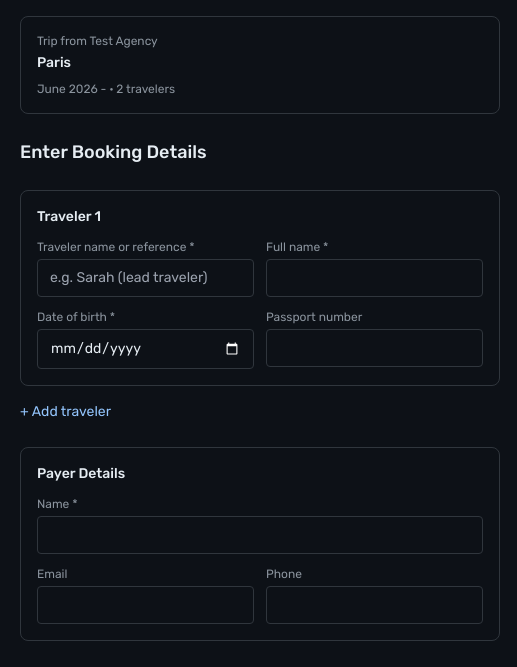
Scenario: BookingCollectionPage › can add and remove travelers
Click the button "+ Add traveler": (66, 412) [20, 402, 111, 422]
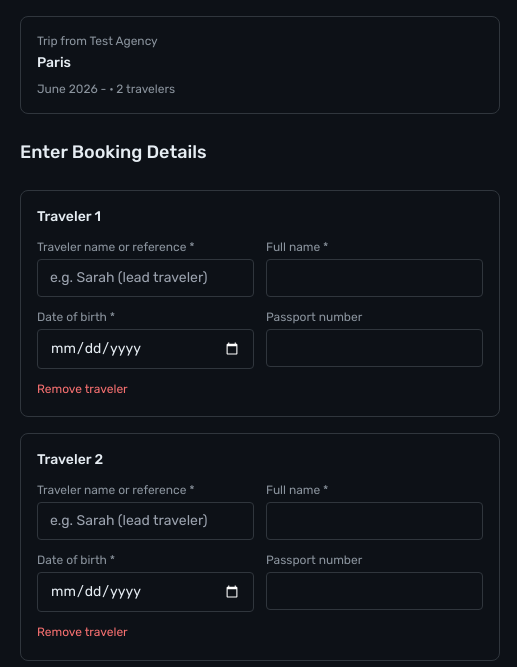
Expected: the element with test id "collection-traveler-1" is shown, [20, 433, 500, 661]
Click the 1st button "Remove traveler": (82, 389) [37, 381, 128, 397]
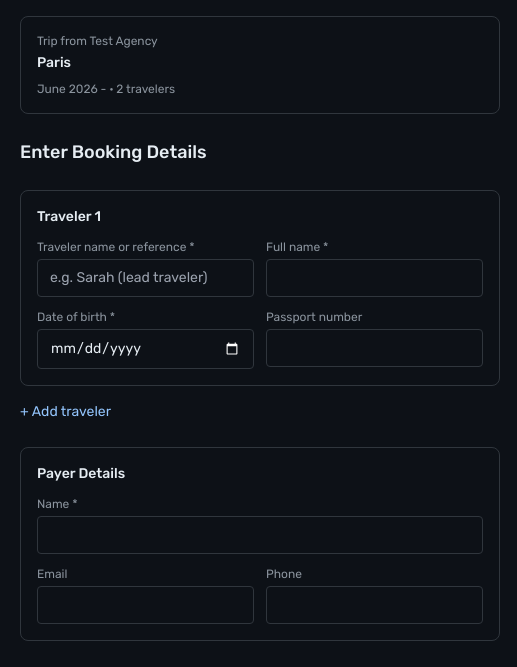
Expected: the element with test id "collection-traveler-1" is gone
